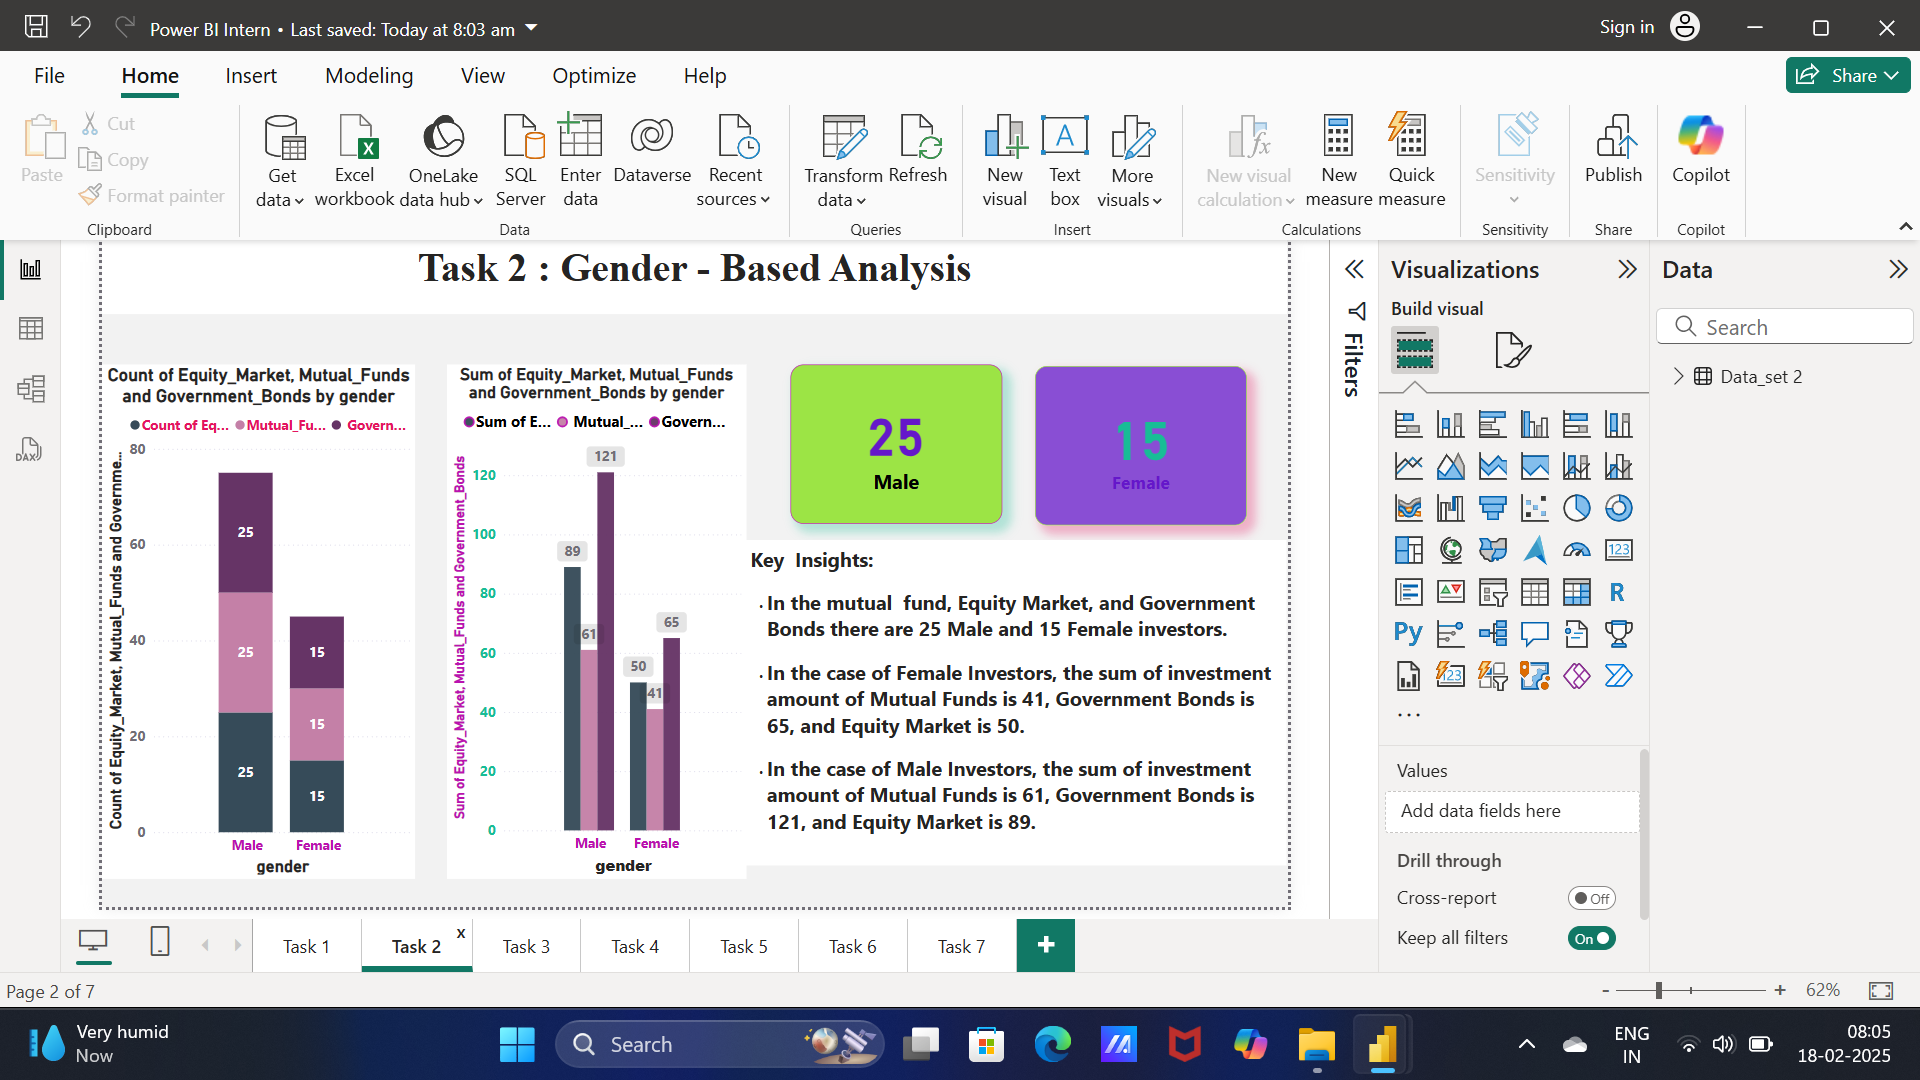

What the dashboard file says about the page in this screenshot:
{"tool":"powerbi","page":{"name":"Task 2","canvas":[1280,720],"ordinal":1},"visuals":[{"type":"textbox","box":[0,0,1279.4,80.1],"z":0},{"type":"columnChart","fields":{"Category":["Data_set 2.gender"],"Y":["CountNonNull(Data_set 2.Equity_Market)","CountNonNull(Data_set 2.Mutual_Funds)","CountNonNull(Data_set 2.Government_Bonds)"]},"box":[0,134.2,338.3,555.6],"z":1000},{"type":"clusteredColumnChart","fields":{"Category":["Data_set 2.gender"],"Y":["Sum(Data_set 2.Equity_Market)","Sum(Data_set 2.Mutual_Funds)","Sum(Data_set 2.Government_Bonds)"]},"box":[372.3,134.2,323.2,555.6],"z":2000},{"type":"card","fields":{"Values":["Data_set 2.Male"]},"box":[742.7,134.2,228.7,172],"z":3000},{"type":"card","fields":{"Values":["Data_set 2.Female"]},"box":[1007.3,136.1,228.7,172],"z":4000},{"type":"textbox","box":[695.4,323.2,583.9,351.5],"z":5000}]}

Visuals, with their boxes on the page's 1280x720 design canvas (x1, y1, x2, y2). These are canvas units, not pixel positions in the 1920x1080 screenshot, which may show the page scaled, cropped or inside an application window:
textbox: bbox=[0, 0, 1279, 80]
columnChart - Data_set 2.gender x CountNonNull(Data_set 2.Equity_Market): bbox=[0, 134, 338, 690]
clusteredColumnChart - Data_set 2.gender x Sum(Data_set 2.Equity_Market): bbox=[372, 134, 696, 690]
card - Data_set 2.Male: bbox=[743, 134, 971, 306]
card - Data_set 2.Female: bbox=[1007, 136, 1236, 308]
textbox: bbox=[695, 323, 1279, 675]
